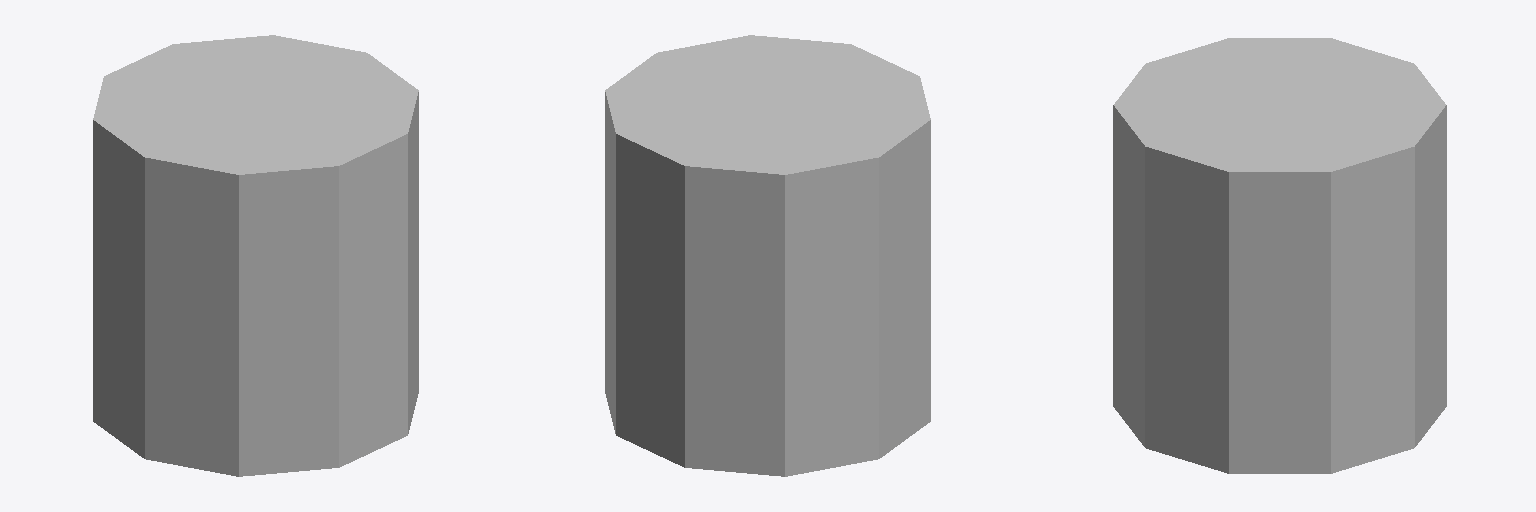
File: Stone Block 2.obj
3 views of the same model, side by side, from view 1: azimuth 30°, elevation 25°; view 2: azimuth 150°, elevation 25°; view 3: azimuth 270°, elevation 25° (orthographic).
Visible parts, largest first — view 1: Cylinder; view 2: Cylinder; view 3: Cylinder.
Boxes of the visible parts, <box> form: Cylinder: <box>93,35,418,476</box>; Cylinder: <box>605,35,930,476</box>; Cylinder: <box>1113,38,1446,473</box>.
Bounding box in the file's own units: 1.9 × 2 × 2.